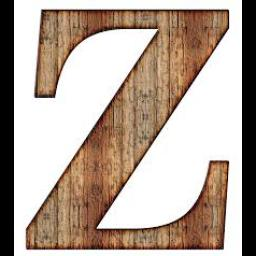z: (14, 0, 242, 256)
